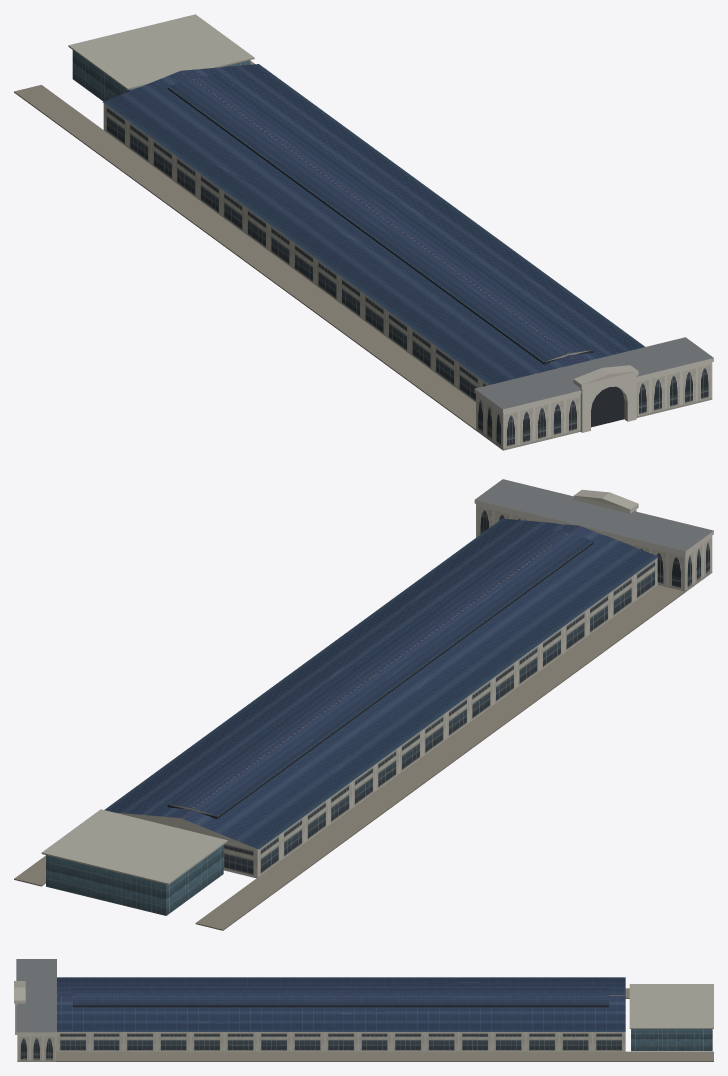
The model's file is exploratorium_pier_15.glb.
3 renders of one model, top to bottom at view 1: azimuth 30°, elevation 25°; view 2: azimuth 150°, elevation 25°; view 3: azimuth 270°, elevation 25°, orthographic. The views are drawn at different scales.
Visible parts, largest first — view 1: exploratorium_pier_15; view 2: exploratorium_pier_15; view 3: exploratorium_pier_15.
Part boxes in pixels (x1=…): exploratorium_pier_15: x1=14, y1=14, x2=713, y2=450; exploratorium_pier_15: x1=14, y1=479, x2=713, y2=930; exploratorium_pier_15: x1=14, y1=959, x2=713, y2=1061.
Size of the model in its own units: 62.48 by 15.01 by 252.
2 materials, 2 textured.
